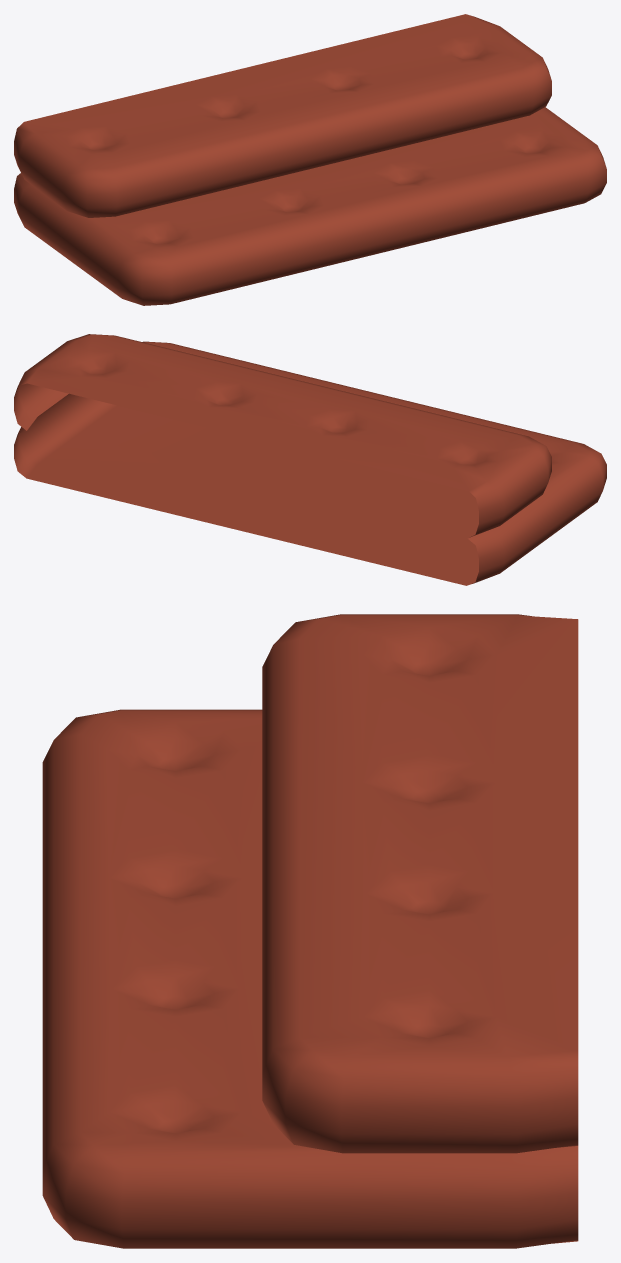
The model's file is biscoitos_natal_dois_pacote.glb.
The picture shows the model from 3 angles, top to bottom: view 1: azimuth 30°, elevation 25°; view 2: azimuth 150°, elevation 25°; view 3: azimuth 270°, elevation 25°; orthographic projection. The views are drawn at different scales.
Visible parts, largest first — view 1: biscoitos_natal_dois_pacote; view 2: biscoitos_natal_dois_pacote; view 3: biscoitos_natal_dois_pacote.
Boxes of the visible parts, <box> form: biscoitos_natal_dois_pacote: <box>14,14,606,305</box>; biscoitos_natal_dois_pacote: <box>14,334,606,585</box>; biscoitos_natal_dois_pacote: <box>42,614,578,1248</box>.
Size of the model in its own units: 0.1198 by 0.0225 by 0.0573.
Materials: 1 (1 with a texture image).
